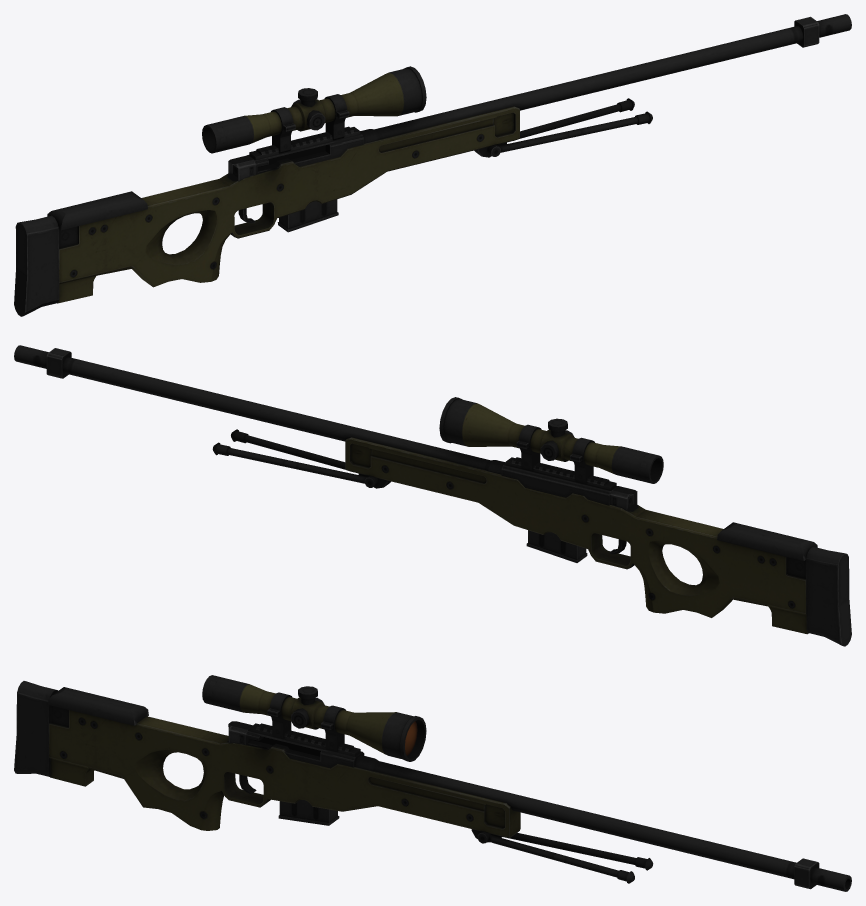
The model's file is gun without bolt.FBX.
3 renders of one model, top to bottom at view 1: azimuth 30°, elevation 25°; view 2: azimuth 150°, elevation 25°; view 3: azimuth 330°, elevation 25°, orthographic.
Visible parts, largest first — view 1: AWP; view 2: AWP; view 3: AWP.
Boxes of the visible parts, bbox=[...] form: AWP: bbox=[14, 14, 851, 316]; AWP: bbox=[14, 345, 851, 646]; AWP: bbox=[14, 675, 851, 891].
Bounding box in the file's own units: 1023 × 190 × 53.
1 material, 1 textured.
